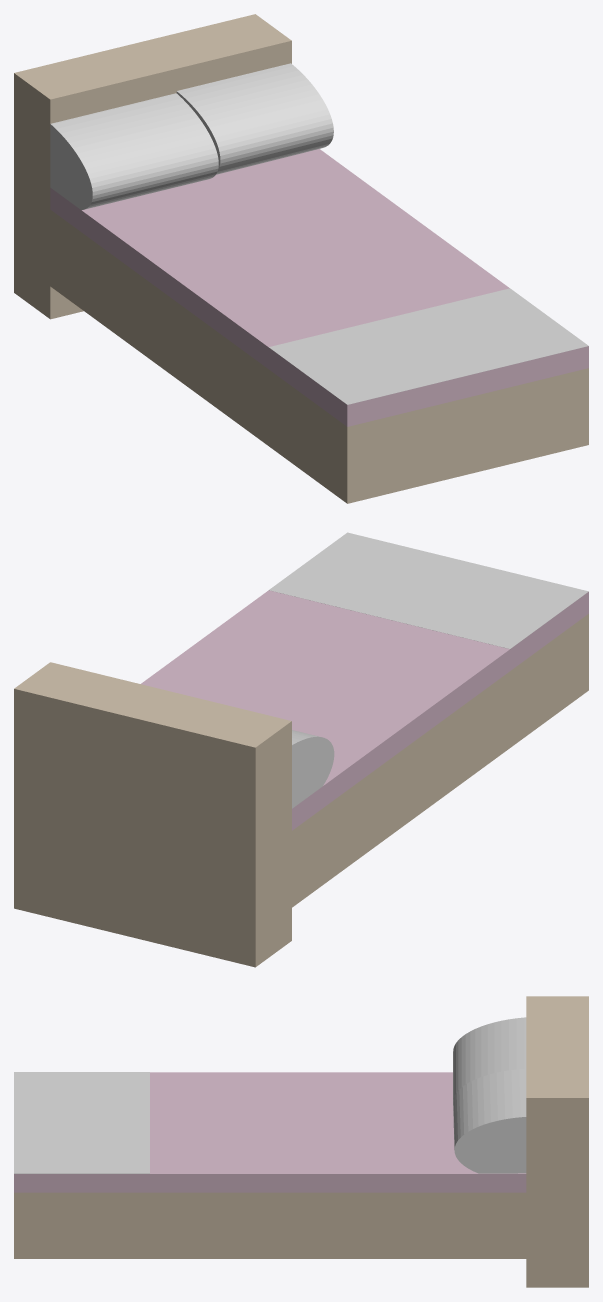
The model's file is Surprising Lahdi-Amur.glb.
The picture shows the model from 3 angles, top to bottom: view 1: azimuth 30°, elevation 25°; view 2: azimuth 150°, elevation 25°; view 3: azimuth 270°, elevation 25°; orthographic projection. The views are drawn at different scales.
Parts seen in each view (by area): view 1: Mesh_Mesh_head_geo.001_lambert2SG.001; view 2: Mesh_Mesh_head_geo.001_lambert2SG.001; view 3: Mesh_Mesh_head_geo.001_lambert2SG.001.
Part boxes in pixels (x1,y1,x2,y2): Mesh_Mesh_head_geo.001_lambert2SG.001: (14, 14, 588, 503); Mesh_Mesh_head_geo.001_lambert2SG.001: (14, 532, 588, 967); Mesh_Mesh_head_geo.001_lambert2SG.001: (14, 996, 588, 1287).
Size of the model in its own units: 0.023 by 0.02 by 0.055.
